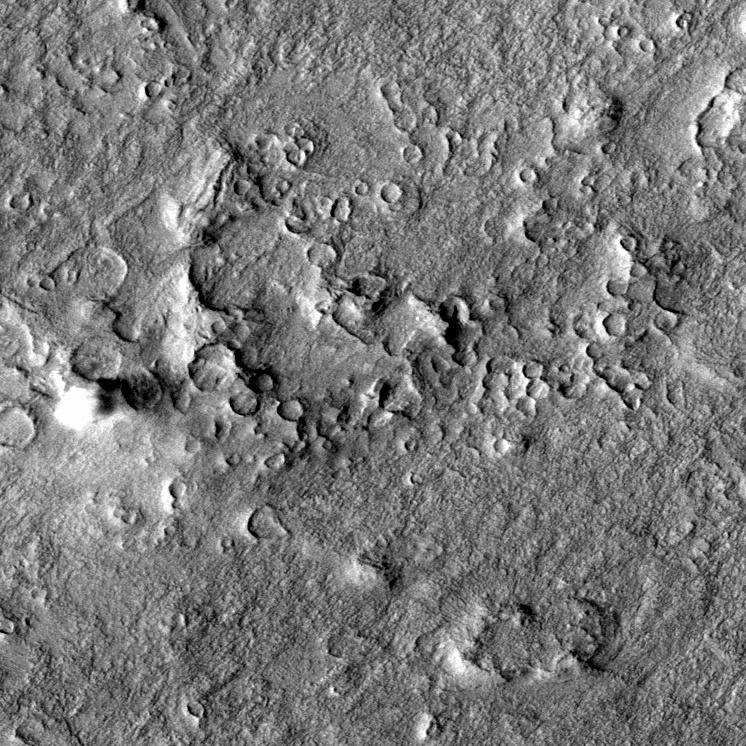dust_devil: (51, 366, 189, 435)
